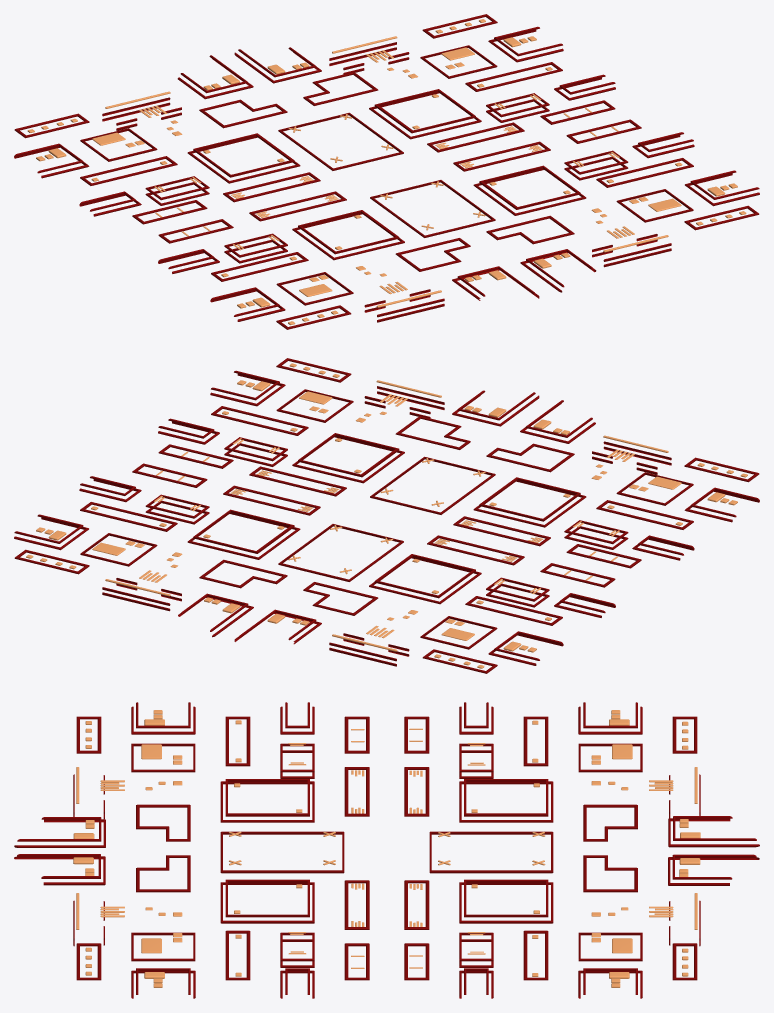
The model's file is wall_deco_P3L3.fbx.
The picture shows the model from 3 angles, top to bottom: view 1: azimuth 30°, elevation 25°; view 2: azimuth 150°, elevation 25°; view 3: azimuth 270°, elevation 25°; orthographic projection. The views are drawn at different scales.
Visible parts, largest first — view 1: wall_deco_P3L3; view 2: wall_deco_P3L3; view 3: wall_deco_P3L3.
Part boxes in pixels (box(x1,y1,x2,y2)): wall_deco_P3L3: box(14, 14, 759, 329); wall_deco_P3L3: box(14, 358, 759, 673); wall_deco_P3L3: box(14, 702, 759, 998).
Bounding box in the file's own units: 6951 × 204 × 7507.
